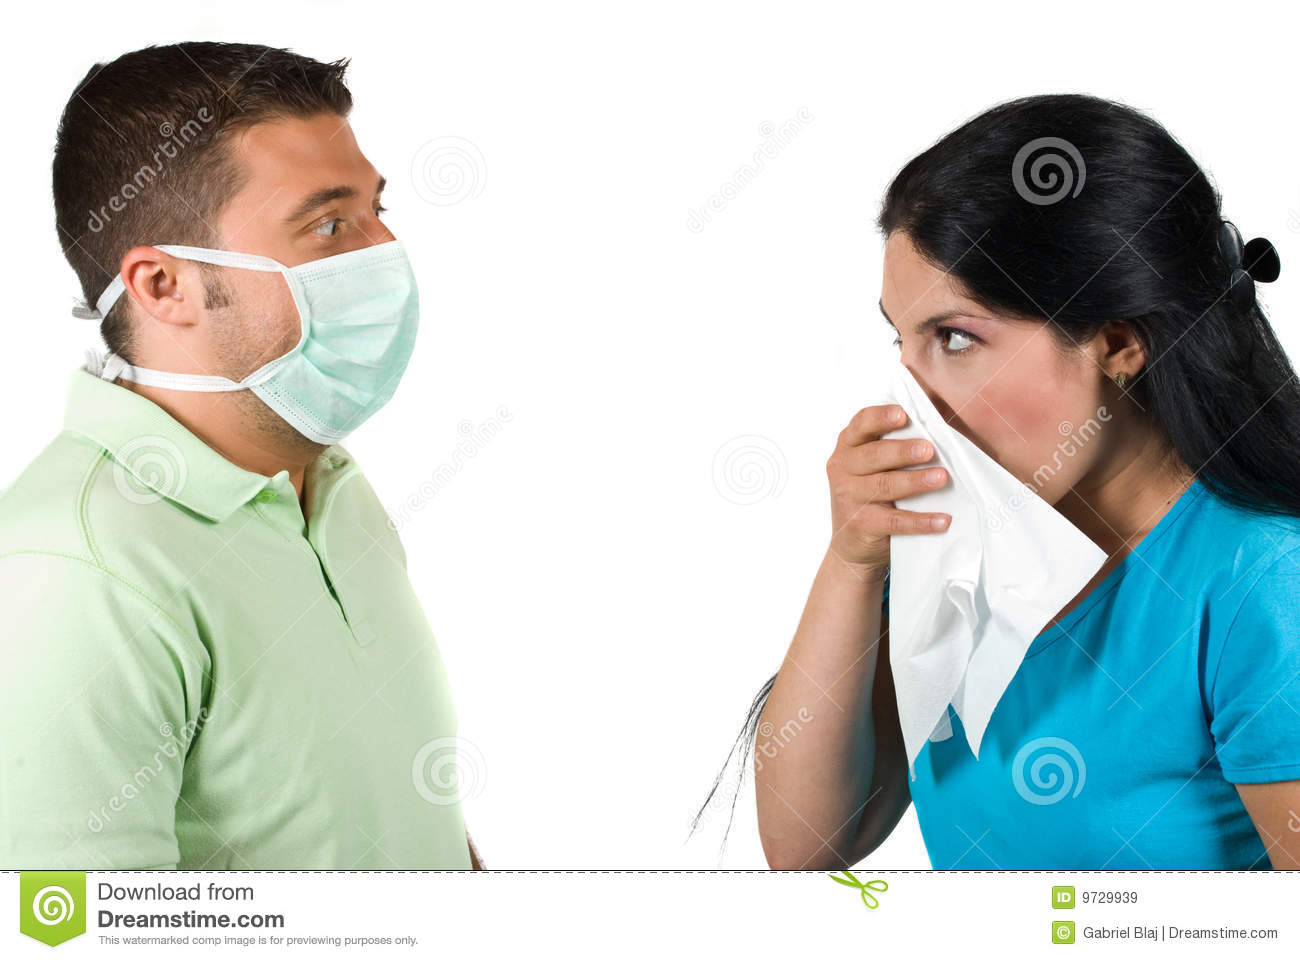mask: (245, 248, 420, 437)
